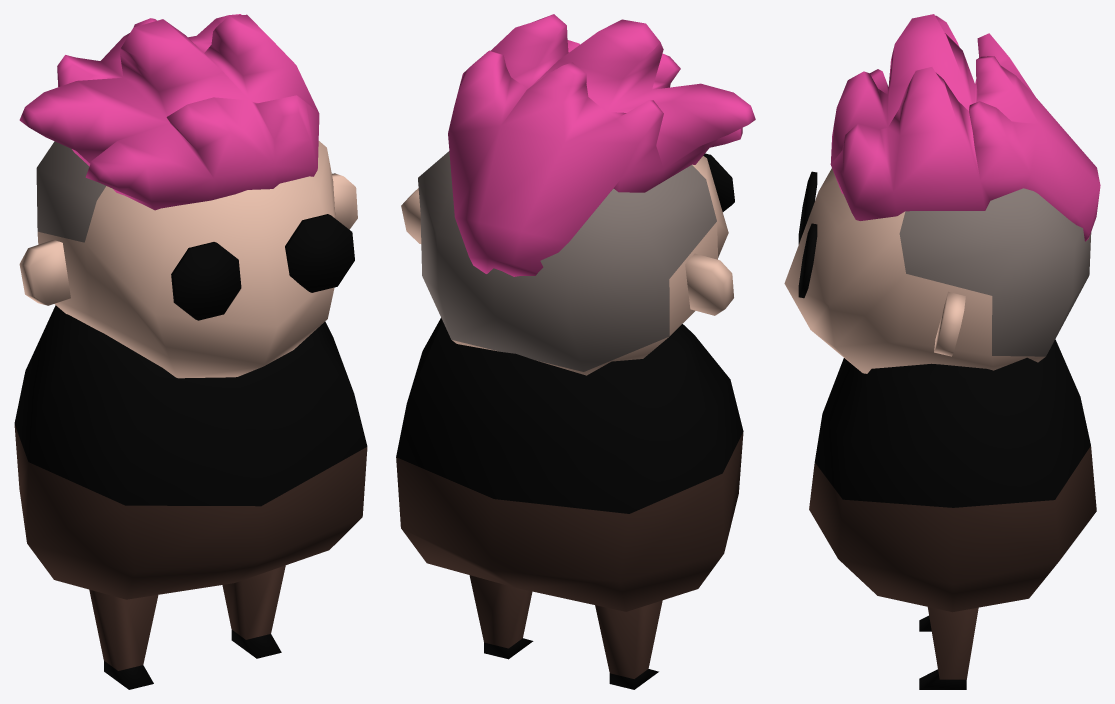
Rendered from tuttava.glb.
3 views of the same model, side by side, from view 1: azimuth 30°, elevation 25°; view 2: azimuth 150°, elevation 25°; view 3: azimuth 270°, elevation 25° (orthographic). The views are drawn at different scales.
Parts seen in each view (by area): view 1: Cube.001; view 2: Cube.001; view 3: Cube.001.
Boxes of the visible parts, bbox=[...] form: Cube.001: bbox=[14, 14, 367, 689]; Cube.001: bbox=[396, 14, 755, 689]; Cube.001: bbox=[784, 14, 1100, 689].
Size of the model in its own units: 1.17 by 2.14 by 1.
